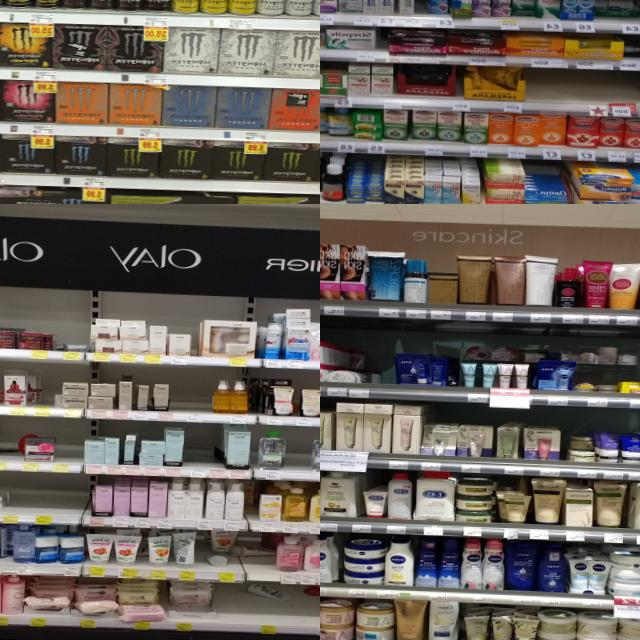100% O.O.S: (376, 348, 396, 398)
100- O.O.S: (527, 69, 640, 116), (216, 599, 285, 634), (32, 476, 82, 524), (173, 372, 211, 422), (285, 428, 313, 480), (286, 594, 320, 635), (6, 474, 32, 524), (182, 424, 206, 476), (52, 428, 80, 472), (0, 424, 17, 471), (207, 426, 220, 477), (40, 377, 55, 416)
